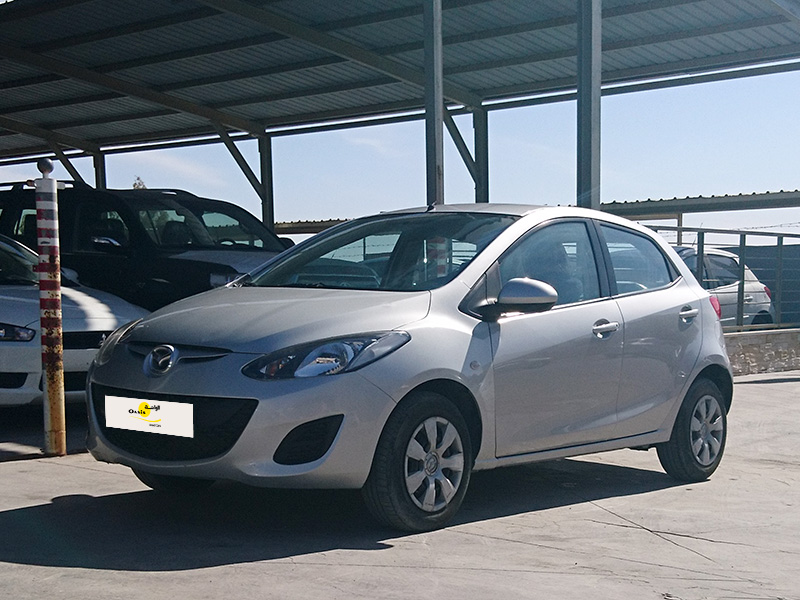other: (92, 210, 743, 509)
